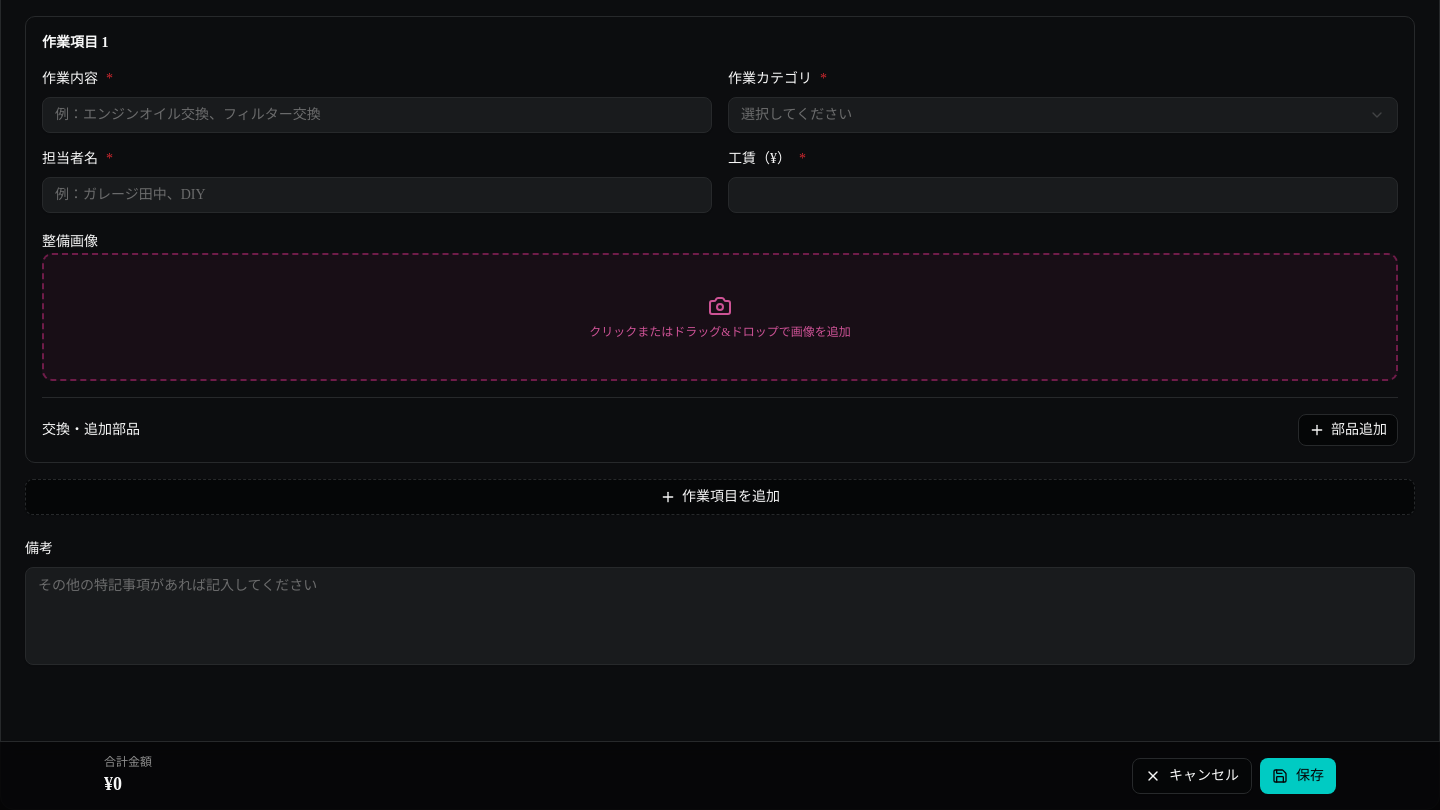
MaintenanceRecordRegisterContent › 作業項目の追加・削除ができる
This screenshot has width=1440, height=810.
(page scrolled)
Check: the heading "作業項目 1" is shown, box [42, 33, 108, 53]
Check: the text "作業項目 2" is not shown
Click the button "作業項目を追加" at (720, 497), box [25, 479, 1415, 515]
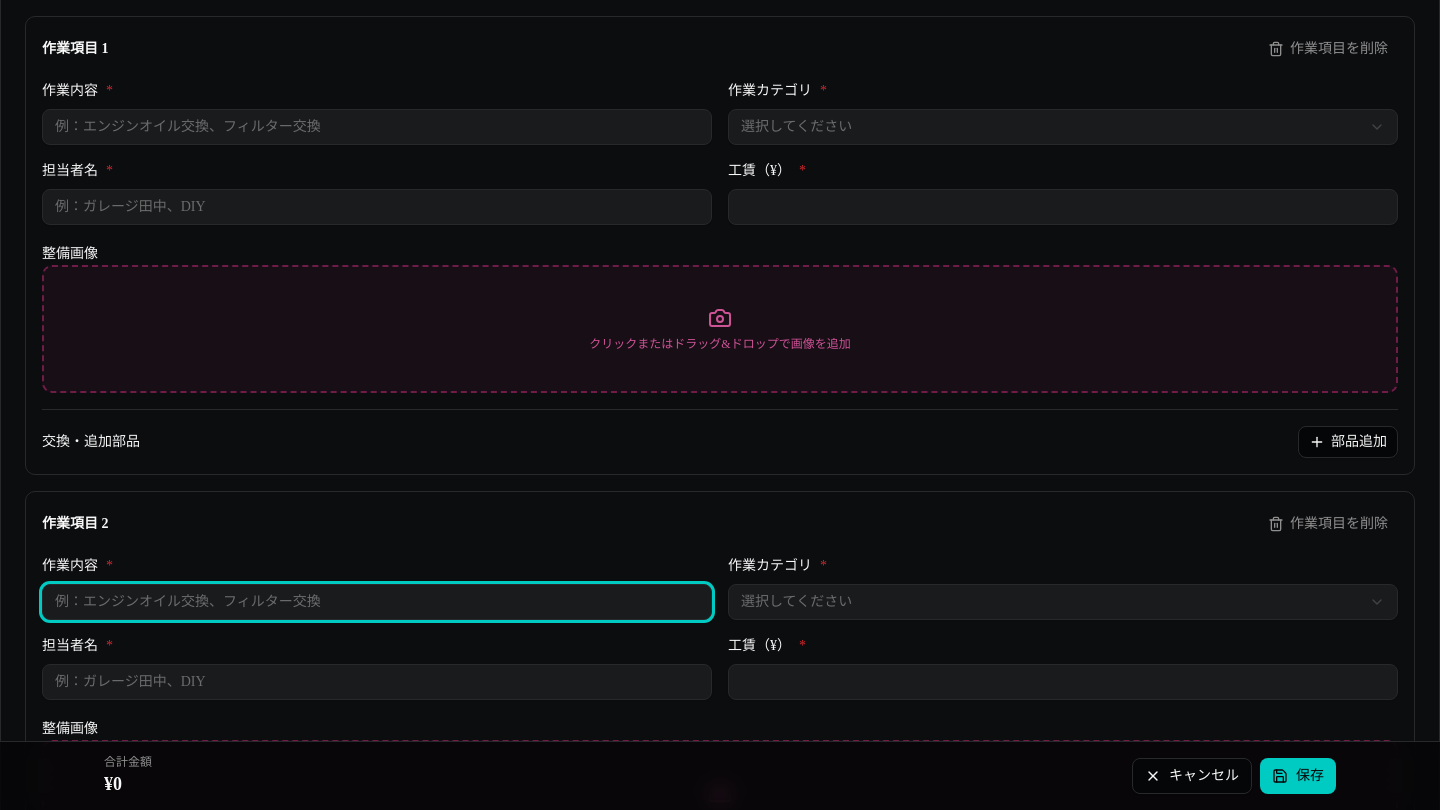
Check: the heading "作業項目 2" is shown, box [42, 514, 108, 534]
Check: the number of buttons "作業項目を削除" is 2
Click the 2nd button "作業項目を削除" at (1328, 524), box [1258, 508, 1398, 540]
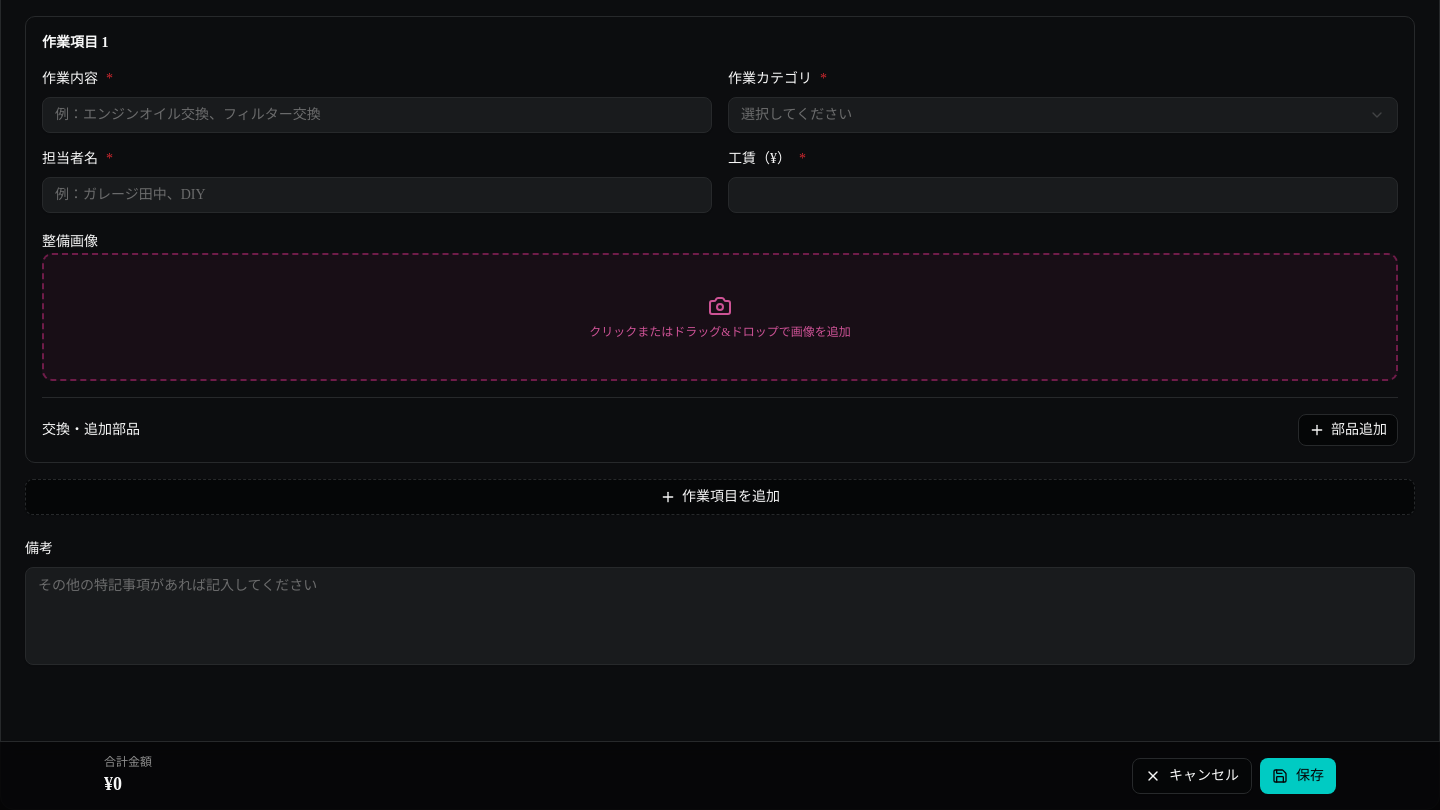
Check: the heading "作業項目 2" is gone
